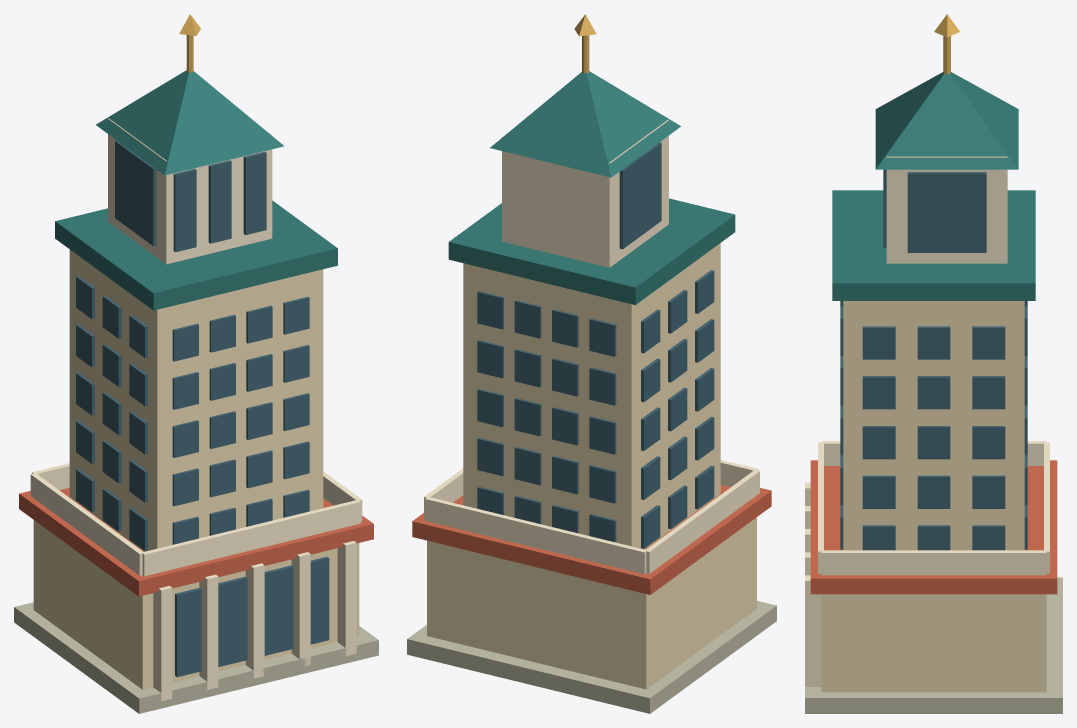
Rendered from harbor-tower.glb.
3 views of the same model, side by side, from view 1: azimuth 30°, elevation 25°; view 2: azimuth 150°, elevation 25°; view 3: azimuth 270°, elevation 25° (orthographic). The views are drawn at different scales.
Visible parts, largest first — view 1: res_harbor_5_mesh; view 2: res_harbor_5_mesh; view 3: res_harbor_5_mesh.
Part boxes in pixels (x1,y1,x2,y2): res_harbor_5_mesh: (14,14,378,713); res_harbor_5_mesh: (407,14,776,713); res_harbor_5_mesh: (805,14,1062,713).
Size of the model in its own units: 2.6 by 6.43 by 2.35.
